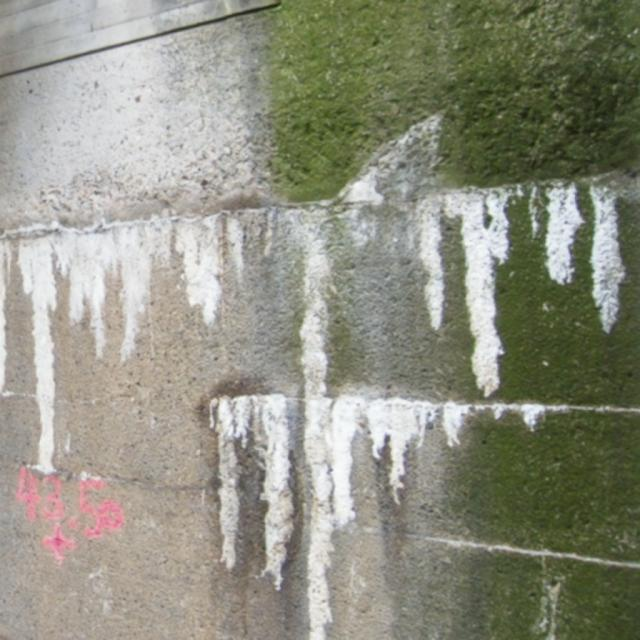D01: (590, 186, 625, 332), (546, 182, 581, 283)
